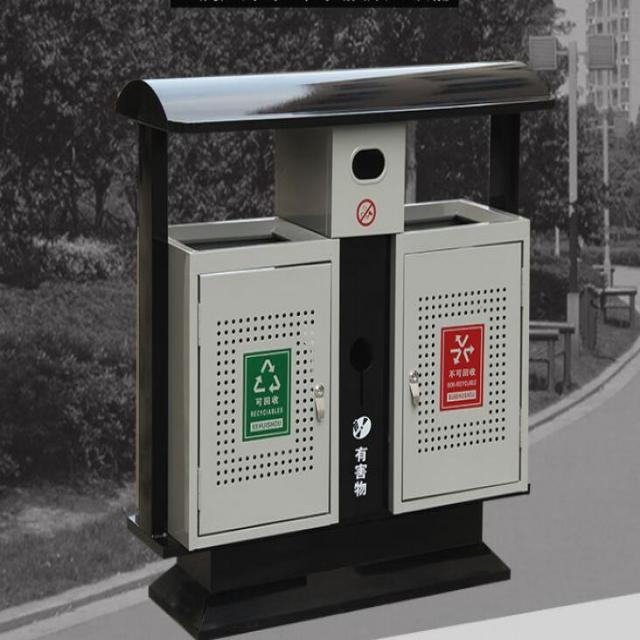ash bin: (104, 50, 560, 638)
